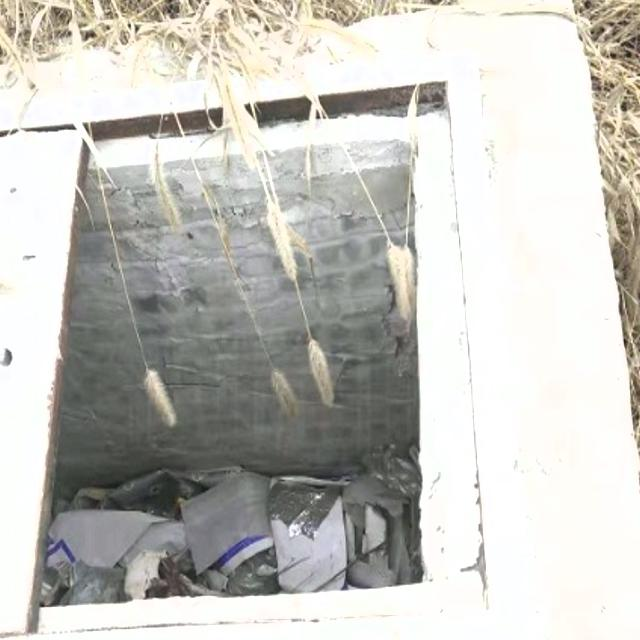lose: (0, 50, 543, 640)
